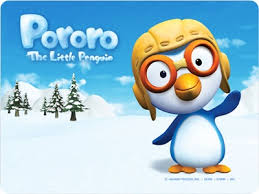Pororo: (129, 17, 241, 173)
